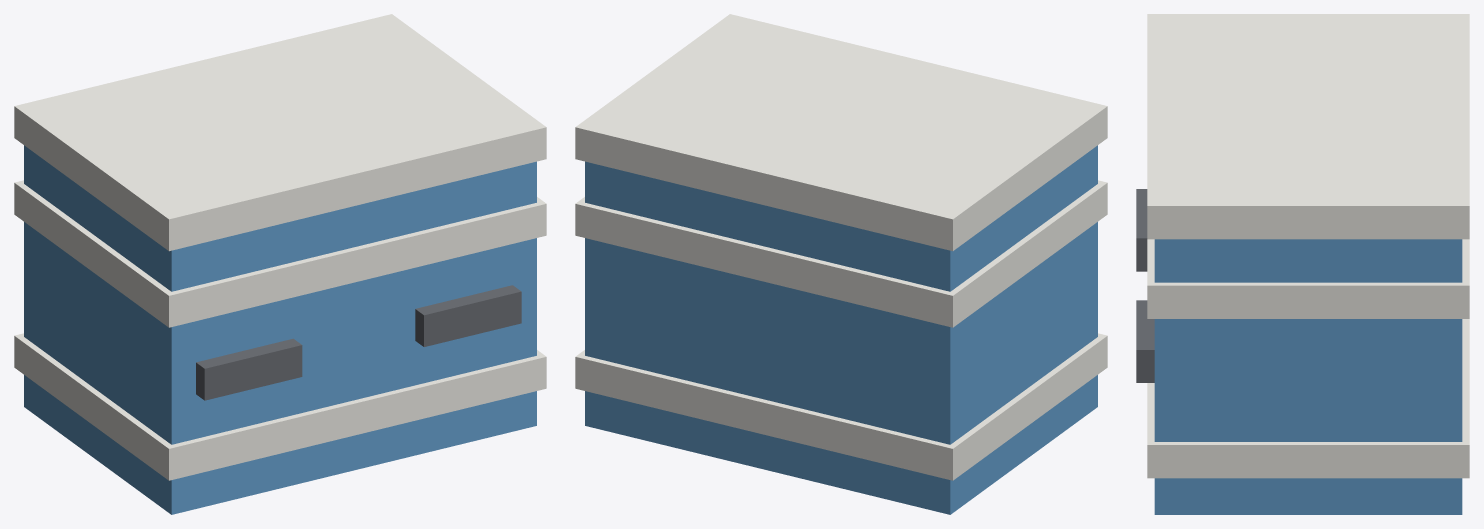
The model's file is caravan-park-and-campsite-storage-crate-e19a8b9d__35367.glb.
The picture shows the model from 3 angles, left to right: view 1: azimuth 30°, elevation 25°; view 2: azimuth 150°, elevation 25°; view 3: azimuth 270°, elevation 25°; orthographic projection. The views are drawn at different scales.
Visible parts, largest first — view 1: storage-crate-shell, storage-crate-azure, storage-crate-charcoal; view 2: storage-crate-shell, storage-crate-azure; view 3: storage-crate-shell, storage-crate-azure, storage-crate-charcoal.
Boxes of the visible parts, x1,y1,x2,y2 form: storage-crate-shell: (14, 14, 546, 480); storage-crate-azure: (24, 145, 536, 514); storage-crate-charcoal: (196, 285, 521, 400); storage-crate-shell: (575, 14, 1107, 480); storage-crate-azure: (585, 145, 1097, 514); storage-crate-shell: (1147, 14, 1469, 478); storage-crate-azure: (1154, 239, 1462, 514); storage-crate-charcoal: (1136, 189, 1154, 382).
Size of the model in its own units: 0.62 by 0.47 by 0.455.
